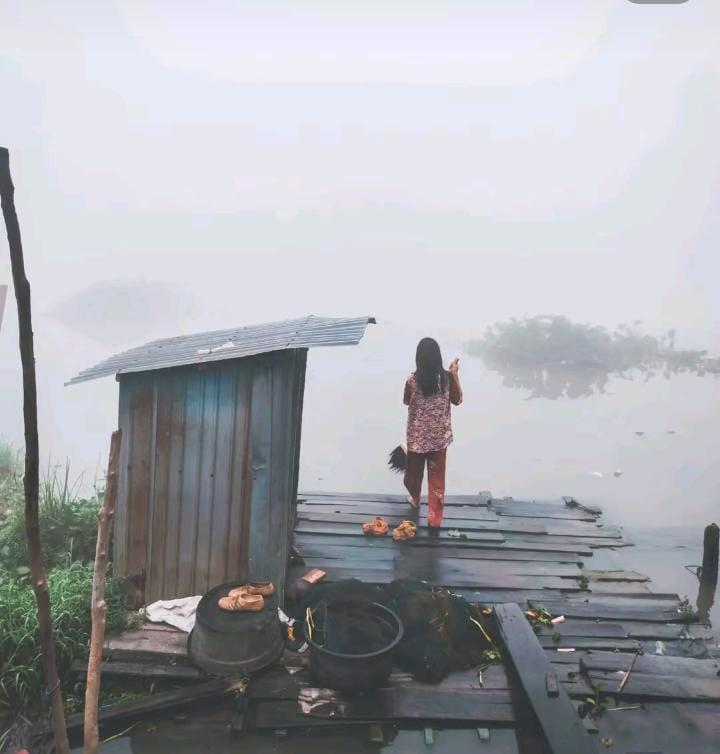Deteksi-Objek-Citra-Berasap: (0, 0, 720, 499)
Gedung: (65, 316, 377, 613)
Manusia: (402, 336, 463, 529)
Vegetasi: (0, 441, 127, 753), (461, 312, 720, 405)
